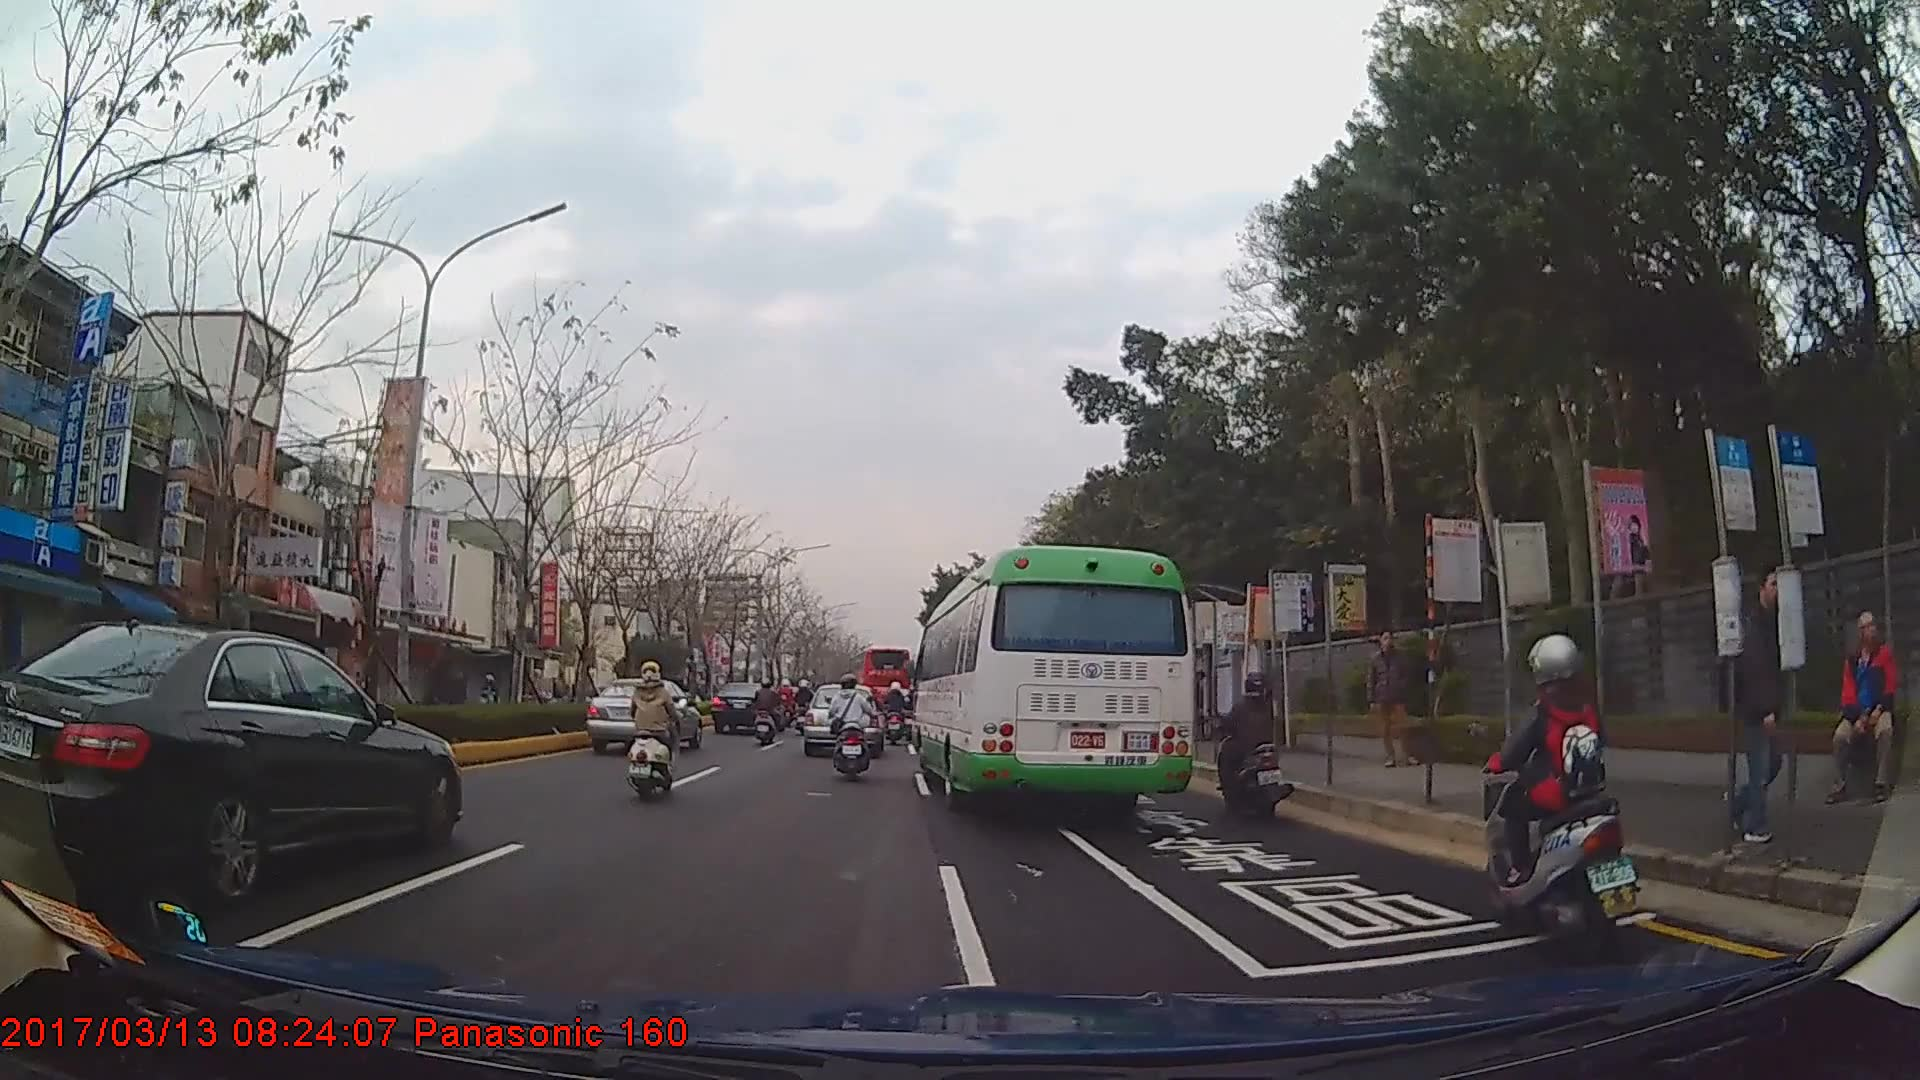pedestrian: (1720, 558, 1799, 854), (1831, 613, 1900, 804), (1367, 629, 1419, 768)
rider: (1478, 634, 1639, 937), (1208, 679, 1290, 823), (624, 666, 680, 803), (826, 679, 874, 784), (754, 679, 782, 750), (882, 680, 909, 736), (793, 679, 814, 726), (477, 674, 500, 706), (352, 669, 373, 702)
vehicle: (0, 621, 460, 895), (908, 545, 1194, 823), (585, 677, 703, 751), (802, 680, 881, 758), (846, 646, 913, 718), (712, 680, 782, 737)
